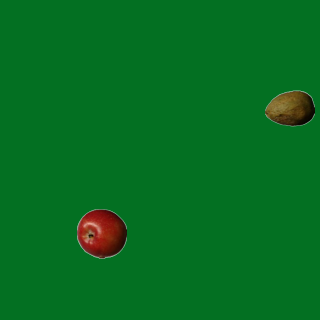Apple Braeburn: (76, 208, 126, 258)
Papaya: (264, 83, 314, 133)
